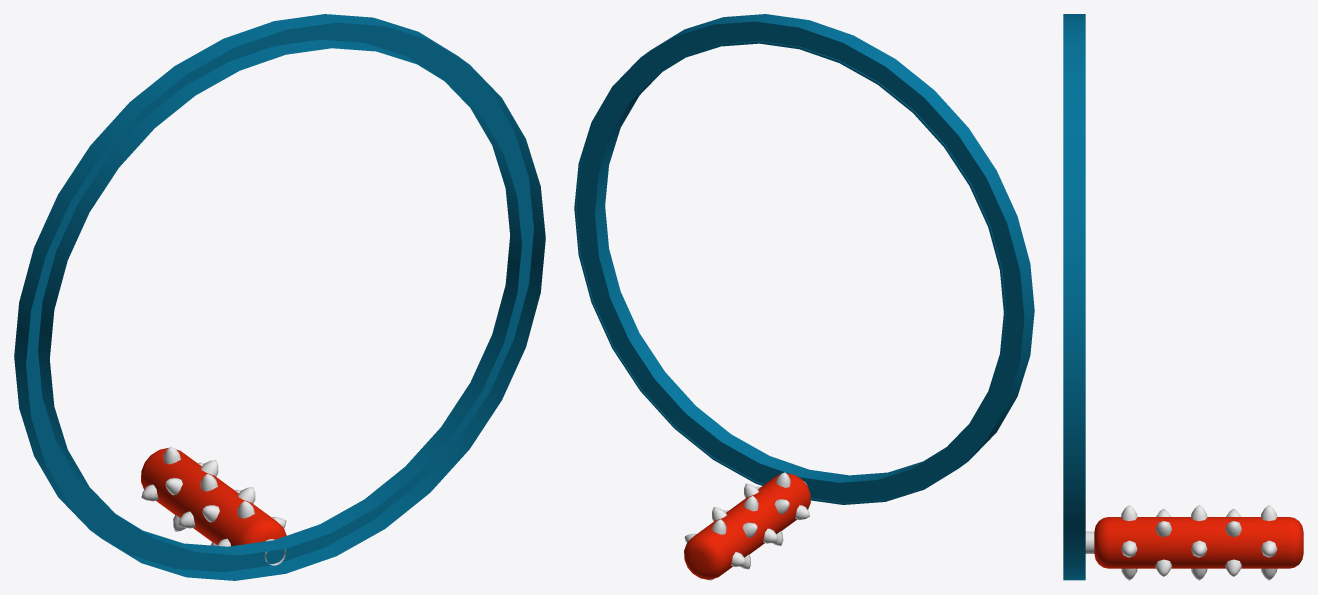
Rendered from Obs_5.fbx.
3 views of the same model, side by side, from view 1: azimuth 30°, elevation 25°; view 2: azimuth 150°, elevation 25°; view 3: azimuth 270°, elevation 25° (orthographic). The views are drawn at different scales.
Visible parts, largest first — view 1: Obs_5, Obs_5_1; view 2: Obs_5, Obs_5_1; view 3: Obs_5, Obs_5_1.
Part boxes in pixels (x1,y1,x2,y2): Obs_5: (14, 14, 545, 580); Obs_5_1: (141, 446, 286, 565); Obs_5: (574, 14, 1034, 504); Obs_5_1: (684, 472, 810, 580); Obs_5: (1063, 14, 1085, 580); Obs_5_1: (1085, 505, 1303, 580).
Bounding box in the file's own units: 5.14 × 5.38 × 2.18.
